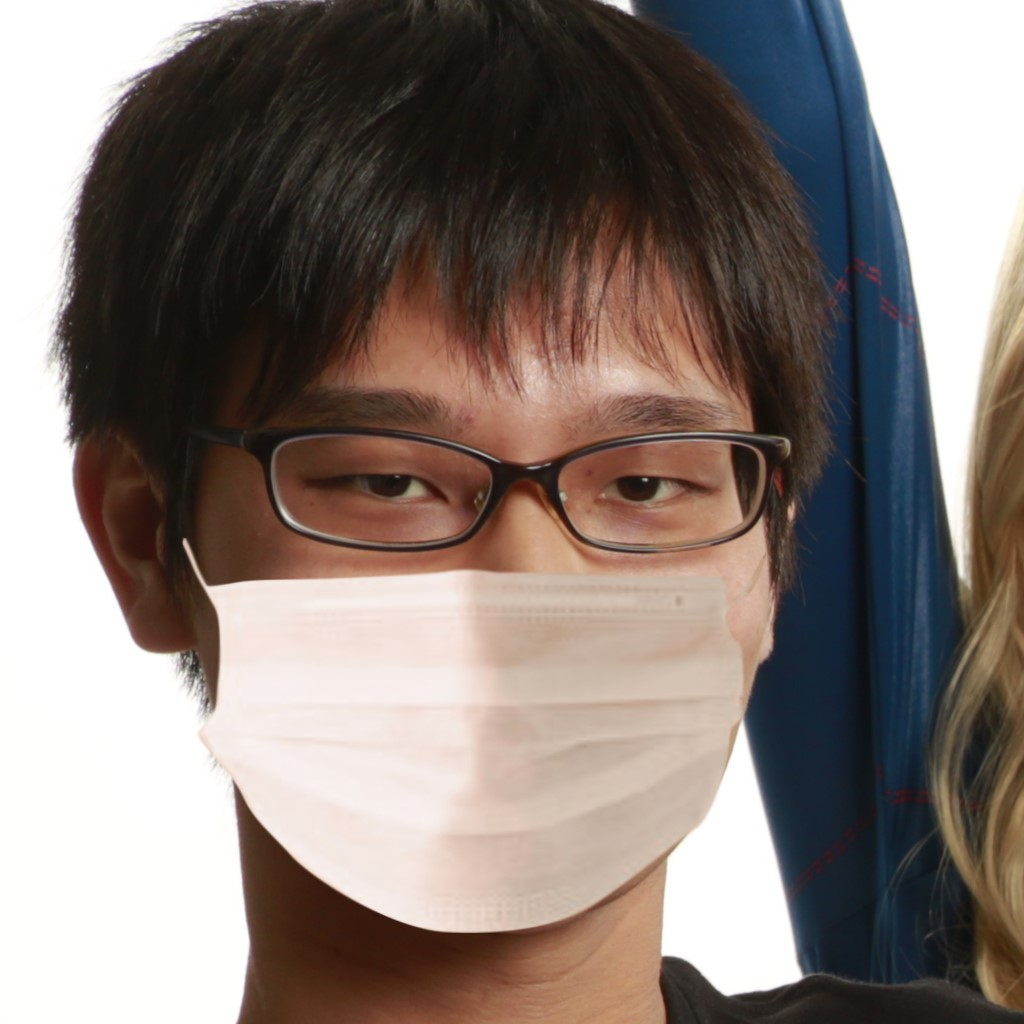con_mascara: (154, 198, 788, 952)
